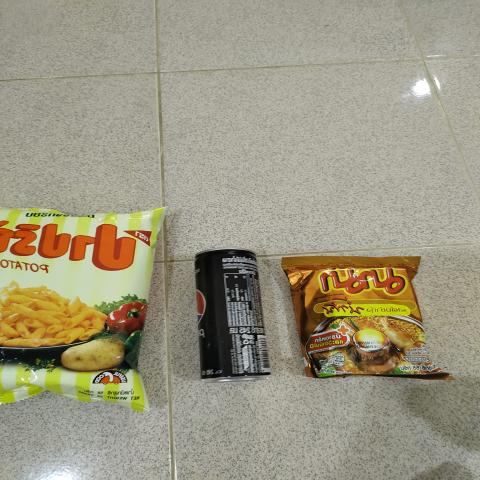mama: (303, 258, 420, 374)
paprika: (0, 212, 130, 395)
pepsi_black: (196, 253, 254, 377)
